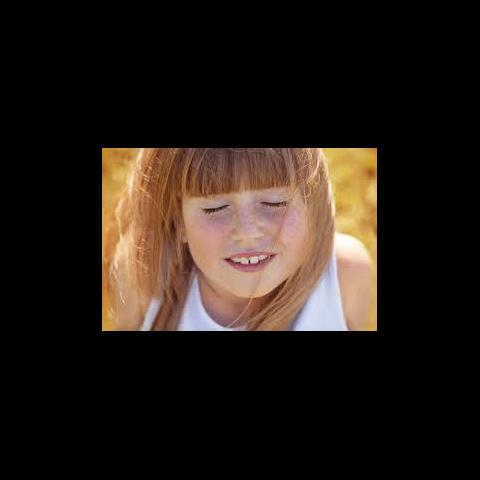closed: (173, 189, 312, 219)
